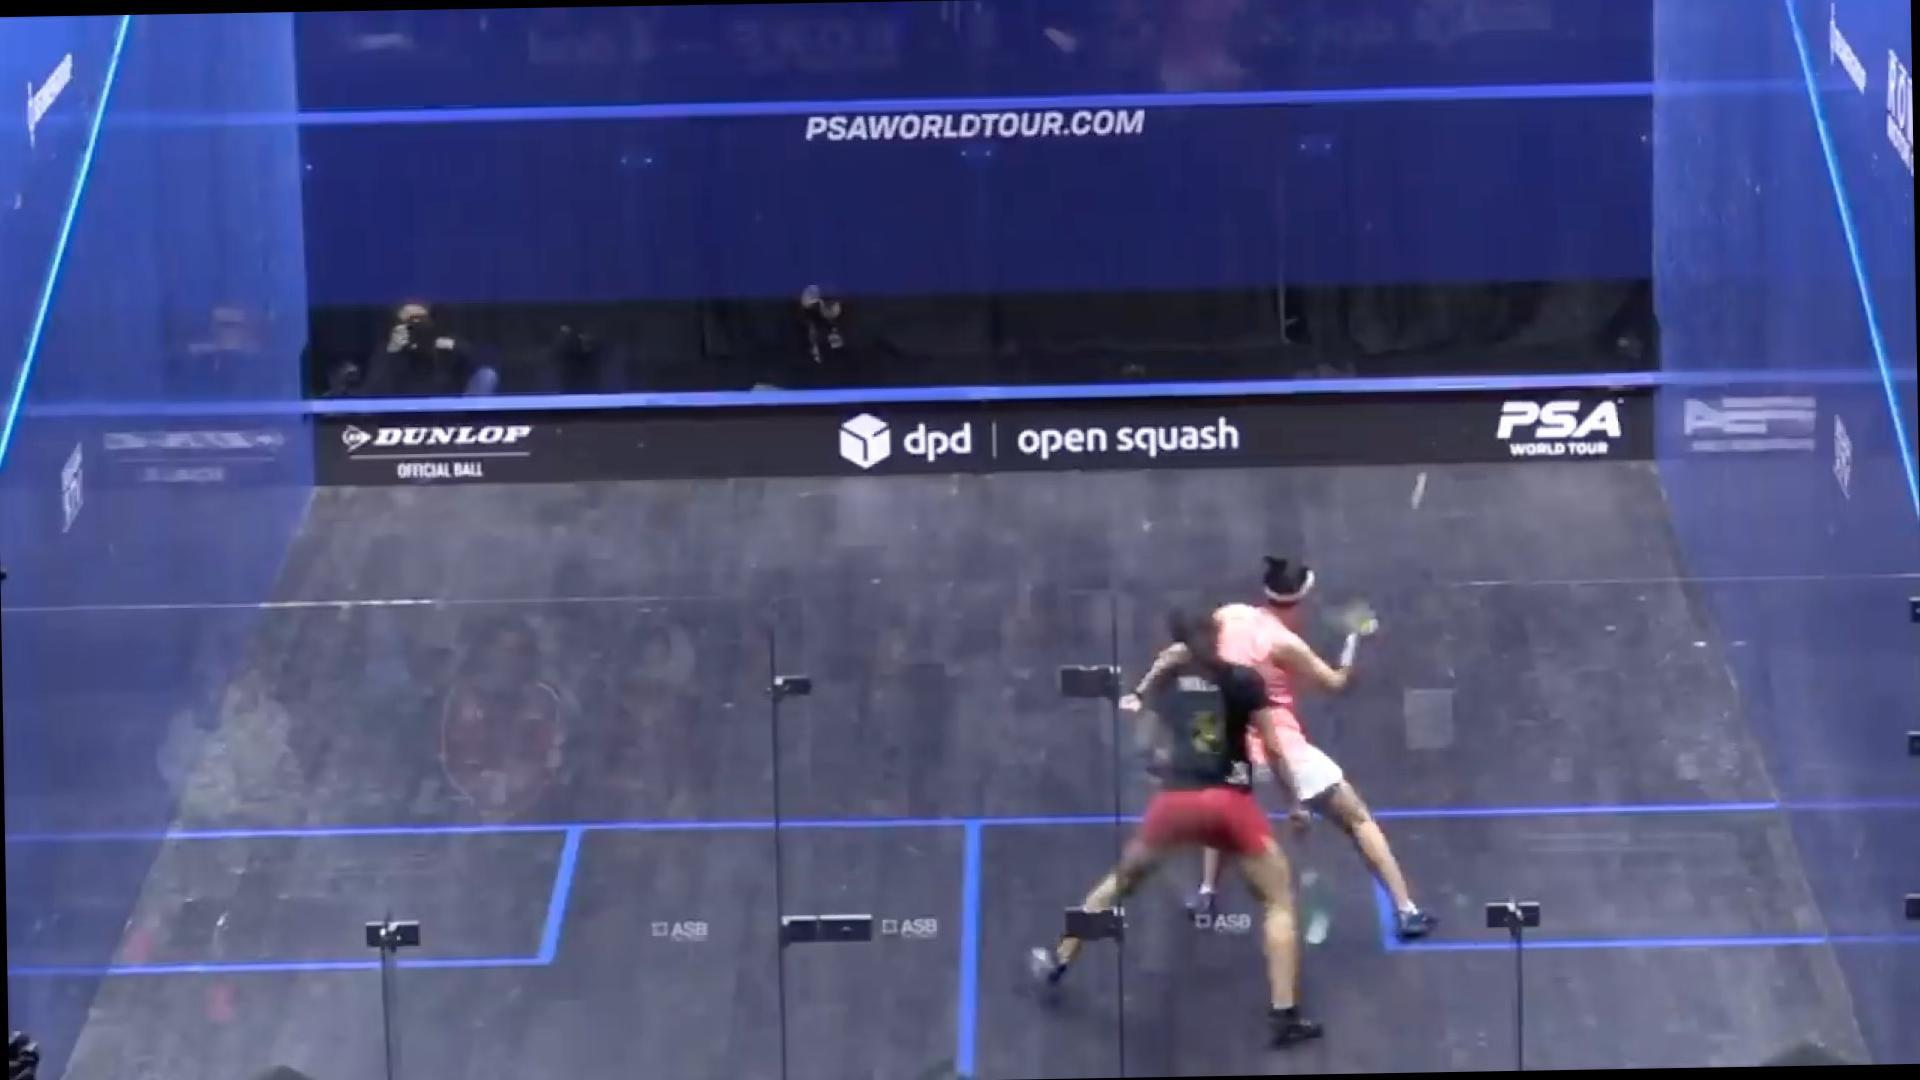Squash-Ball: (1390, 459, 1449, 525)
